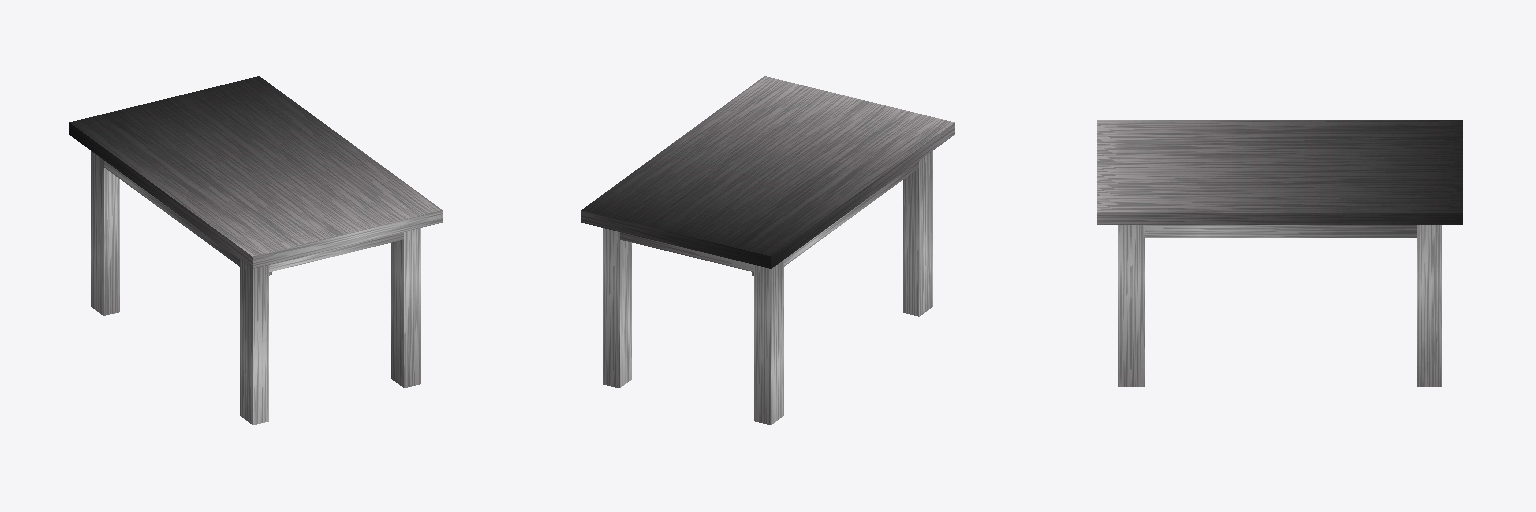
3 views of the same model, side by side, from view 1: azimuth 30°, elevation 25°; view 2: azimuth 150°, elevation 25°; view 3: azimuth 270°, elevation 25° (orthographic).
Visible parts, largest first — view 1: Cube.029_Cube.000; view 2: Cube.029_Cube.000; view 3: Cube.029_Cube.000.
Part boxes in pixels (left/top/right/bottom): Cube.029_Cube.000: left=69, top=76, right=442, bottom=424; Cube.029_Cube.000: left=581, top=76, right=954, bottom=424; Cube.029_Cube.000: left=1097, top=120, right=1462, bottom=386.
Size of the model in its own units: 1.1 by 0.9904 by 1.83.
1 materials, 1 textured.